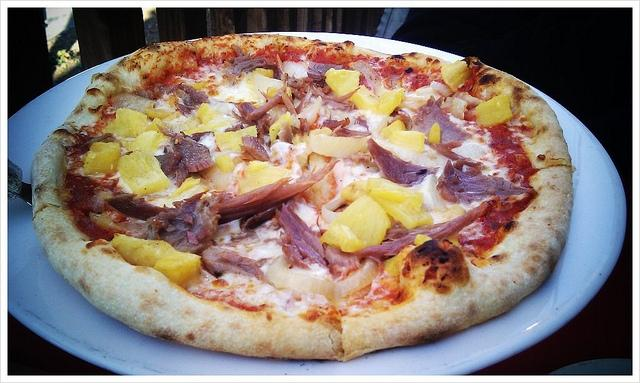pineapple: (340, 180, 434, 230), (321, 195, 391, 248), (118, 150, 170, 195), (152, 247, 206, 290), (366, 177, 424, 213), (238, 160, 290, 195), (310, 134, 368, 158), (102, 108, 148, 138), (82, 142, 122, 176), (474, 93, 514, 126), (214, 125, 258, 153), (342, 84, 382, 114), (118, 130, 169, 152), (325, 68, 361, 97), (248, 70, 284, 98), (441, 60, 472, 92), (375, 87, 406, 116), (389, 130, 425, 154), (270, 114, 292, 144), (197, 103, 225, 126), (172, 177, 200, 196), (382, 119, 406, 140), (214, 154, 233, 172), (428, 122, 441, 143), (253, 68, 274, 78)
